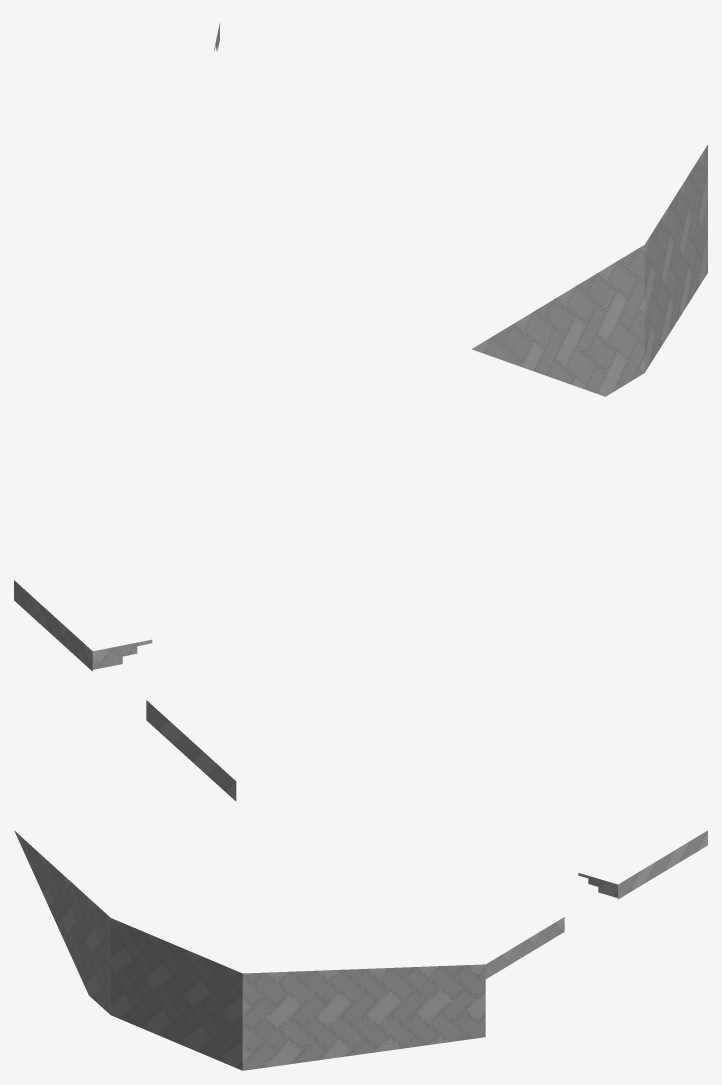
File: kd_stage_135fe0_4_33.glb
3 views of the same model, one above another, from view 1: azimuth 30°, elevation 25°; view 2: azimuth 150°, elevation 25°; view 3: azimuth 270°, elevation 25° (orthographic). The views are drawn at different scales.
Visible parts, largest first — view 1: kd_stage_135fe0_4_33; view 2: kd_stage_135fe0_4_33; view 3: kd_stage_135fe0_4_33.
Boxes of the visible parts, x1,y1,x2,y2 form: kd_stage_135fe0_4_33: (214, 23, 707, 396); kd_stage_135fe0_4_33: (14, 580, 236, 801); kd_stage_135fe0_4_33: (14, 830, 707, 1070).
Bounding box in the file's own units: 11.21 × 3.55 × 22.93.
1 material, 1 textured.
